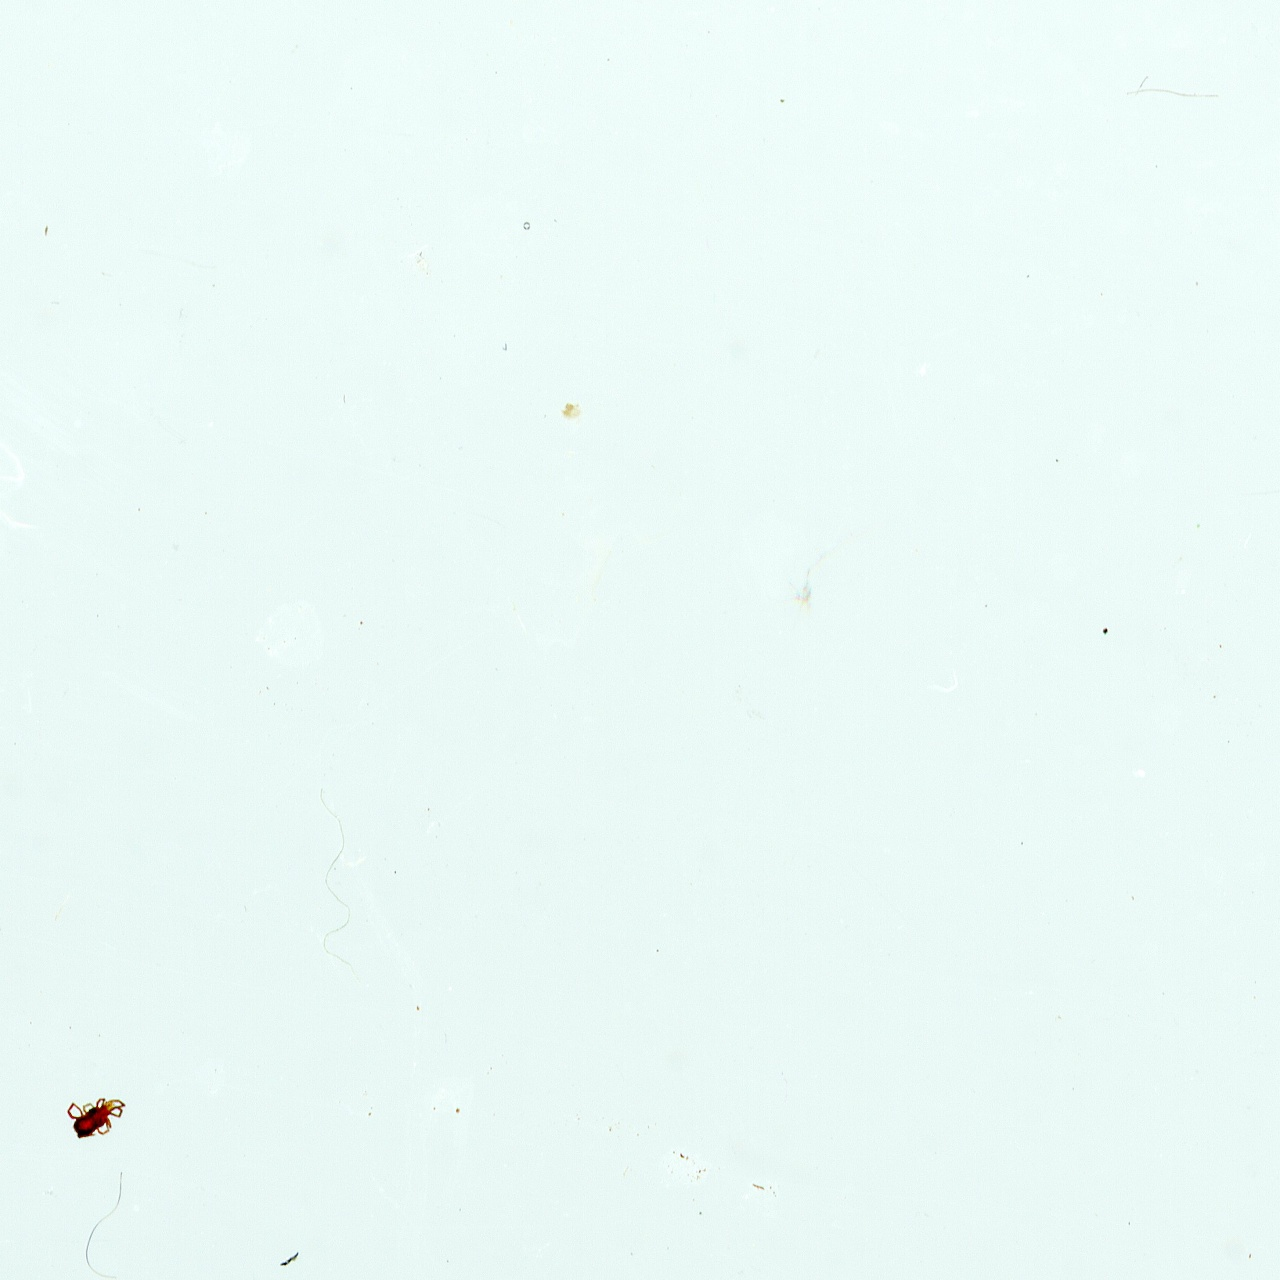arthropod: (63, 1095, 131, 1142)
